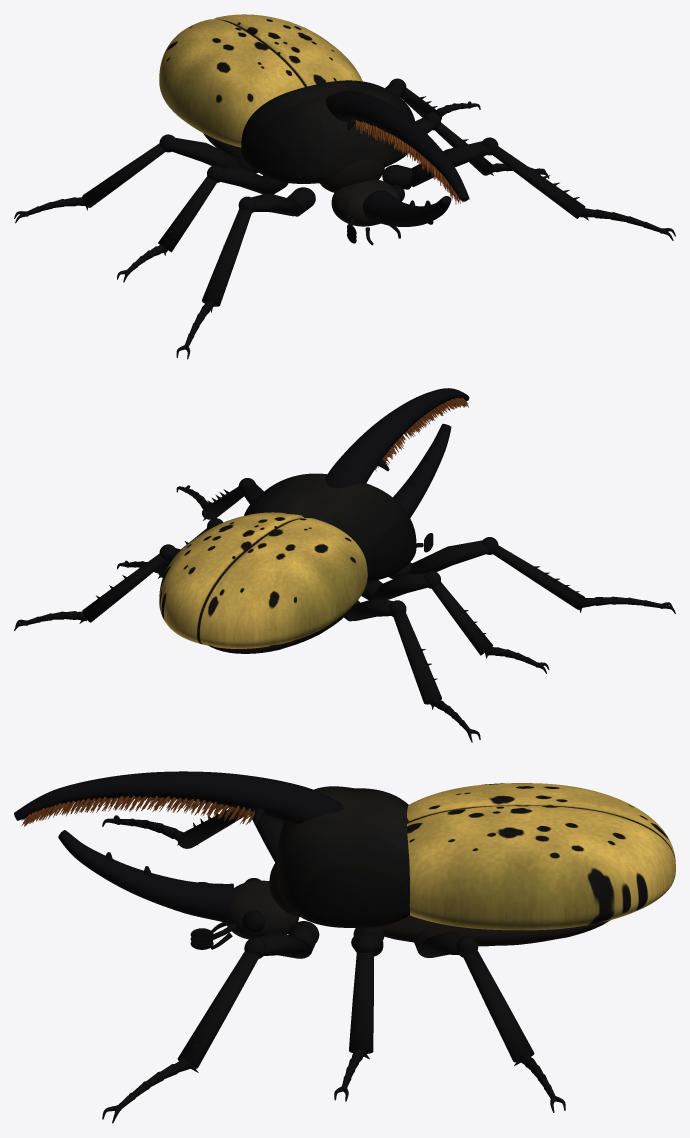
The model's file is bug_hercules.glb.
3 renders of one model, top to bottom at view 1: azimuth 30°, elevation 25°; view 2: azimuth 150°, elevation 25°; view 3: azimuth 270°, elevation 25°, orthographic. The views are drawn at different scales.
Parts seen in each view (by area): view 1: shell, pronotum, leg_0_L_mesh, horn_T_mesh, leg_0_R_mesh, leg_2_R_mesh, leg_1_R_mesh, horn_mesh, under, head_shell, leg_1_L_mesh, hair (+1 smaller); view 2: shell, pronotum, horn_T_mesh, leg_0_R_mesh, leg_1_R_mesh, leg_2_R_mesh, leg_2_L_mesh, horn_mesh, leg_0_L_mesh, hair, under; view 3: shell, pronotum, horn_T_mesh, leg_0_L_mesh, horn_mesh, leg_2_L_mesh, leg_1_L_mesh, under, hair, leg_0_R_mesh, head_shell, ant_L_mesh.
Part boxes in pixels (x1=…): shell: x1=159, y1=14, x2=362, y2=147; pronotum: x1=241, y1=80, x2=415, y2=183; leg_0_L_mesh: x1=382, y1=137, x2=675, y2=240; horn_T_mesh: x1=325, y1=91, x2=469, y2=201; leg_0_R_mesh: x1=176, y1=187, x2=315, y2=359; leg_2_R_mesh: x1=14, y1=134, x2=257, y2=223; leg_1_R_mesh: x1=117, y1=165, x2=288, y2=282; horn_mesh: x1=362, y1=190, x2=451, y2=226; under: x1=203, y1=133, x2=384, y2=192; head_shell: x1=331, y1=179, x2=400, y2=226; leg_1_L_mesh: x1=415, y1=112, x2=549, y2=178; hair: x1=355, y1=120, x2=469, y2=204; shell: x1=159, y1=512, x2=367, y2=648; pronotum: x1=244, y1=473, x2=416, y2=581; horn_T_mesh: x1=325, y1=388, x2=469, y2=488; leg_0_R_mesh: x1=388, y1=537, x2=675, y2=613; leg_1_R_mesh: x1=361, y1=571, x2=549, y2=673; leg_2_R_mesh: x1=344, y1=598, x2=480, y2=742; leg_2_L_mesh: x1=14, y1=544, x2=181, y2=630; horn_mesh: x1=393, y1=423, x2=451, y2=517; leg_0_L_mesh: x1=176, y1=478, x2=263, y2=520; hair: x1=375, y1=398, x2=468, y2=471; under: x1=209, y1=608, x2=350, y2=653; shell: x1=407, y1=783, x2=675, y2=930; pronotum: x1=277, y1=786, x2=409, y2=927; horn_T_mesh: x1=14, y1=771, x2=343, y2=825; leg_0_L_mesh: x1=102, y1=921, x2=319, y2=1123; horn_mesh: x1=58, y1=830, x2=233, y2=922; leg_2_L_mesh: x1=413, y1=929, x2=565, y2=1112; leg_1_L_mesh: x1=334, y1=926, x2=384, y2=1101; under: x1=269, y1=861, x2=610, y2=946; hair: x1=21, y1=795, x2=255, y2=826; leg_0_R_mesh: x1=102, y1=809, x2=283, y2=862; head_shell: x1=225, y1=880, x2=299, y2=939; ant_L_mesh: x1=190, y1=923, x2=236, y2=949.
Bounding box in the file's own units: 1.86 × 0.5751 × 1.73.
5 materials, 5 textured.
